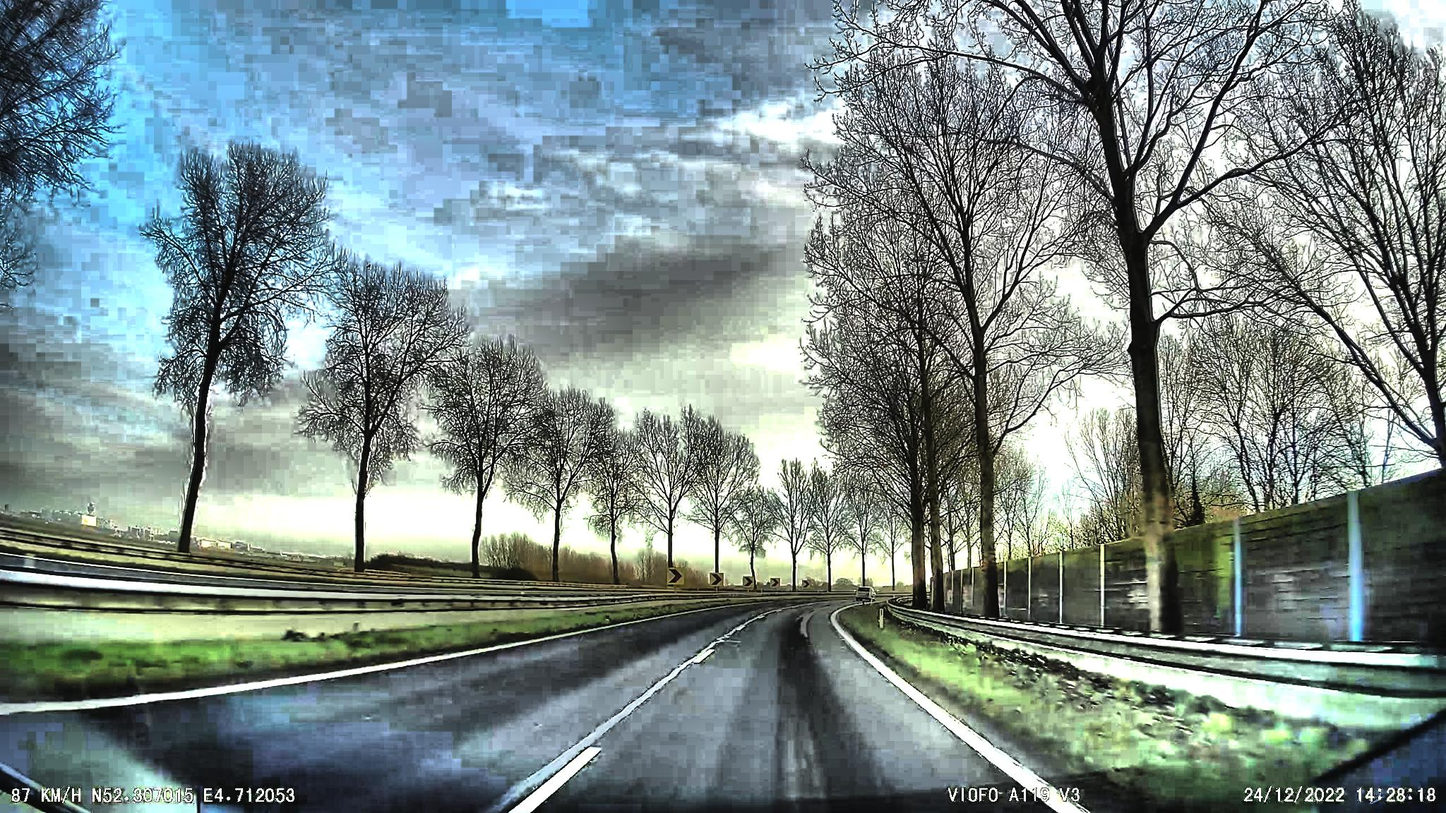Roads: (0, 597, 1053, 813)
